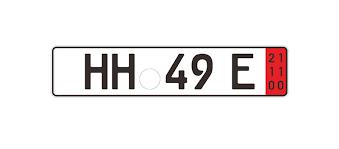4: (161, 52, 189, 90)
9: (188, 53, 217, 90)
E: (229, 52, 259, 91)
H: (108, 52, 139, 91), (81, 51, 109, 92)
